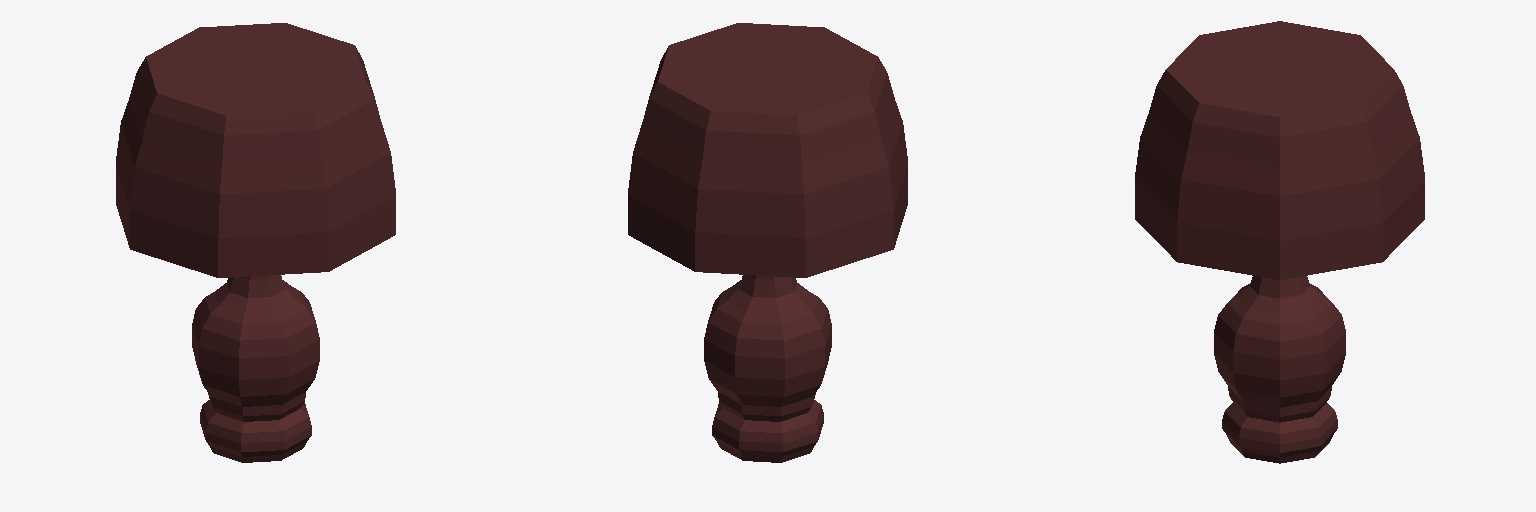
The model's file is Lamp_Texture.obj.
The picture shows the model from 3 angles: view 1: azimuth 30°, elevation 25°; view 2: azimuth 150°, elevation 25°; view 3: azimuth 270°, elevation 25°; orthographic projection.
Parts seen in each view (by area): view 1: pCylinder2, pCylinder1; view 2: pCylinder2, pCylinder1; view 3: pCylinder2, pCylinder1.
Part boxes in pixels (left/top/right/bottom): pCylinder2: left=116, top=23, right=395, bottom=277; pCylinder1: left=192, top=275, right=319, bottom=462; pCylinder2: left=628, top=23, right=907, bottom=277; pCylinder1: left=704, top=275, right=831, bottom=462; pCylinder2: left=1135, top=21, right=1424, bottom=279; pCylinder1: left=1214, top=276, right=1345, bottom=463.
Bounding box in the file's own units: 21.31 × 30.19 × 21.31.